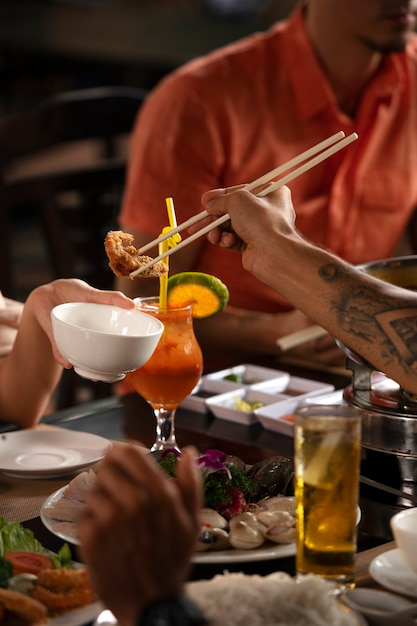alcohol: (121, 280, 217, 475), (287, 398, 367, 582)
